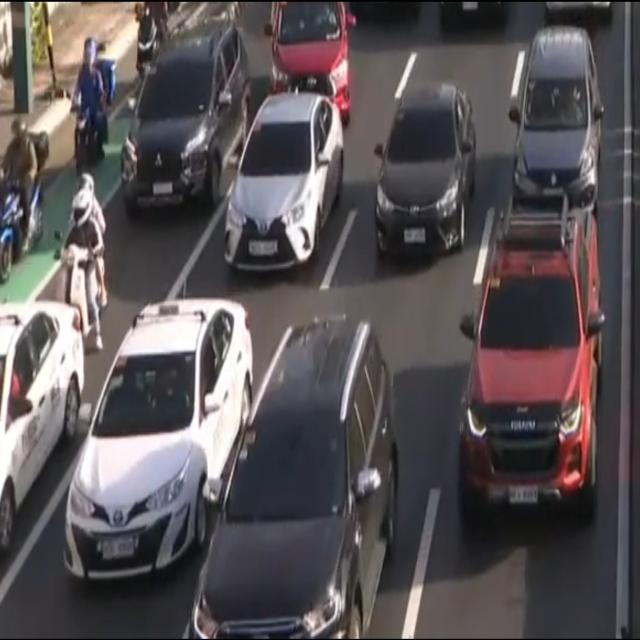Motorcycle: (0, 109, 52, 286), (63, 174, 109, 356), (64, 33, 112, 184), (133, 0, 175, 83)
SUV: (191, 327, 397, 640), (463, 207, 600, 514), (126, 27, 248, 207), (512, 37, 604, 221)
Sedan: (66, 306, 252, 574), (225, 98, 344, 266), (0, 305, 82, 547), (374, 84, 476, 261), (267, 0, 353, 124)
